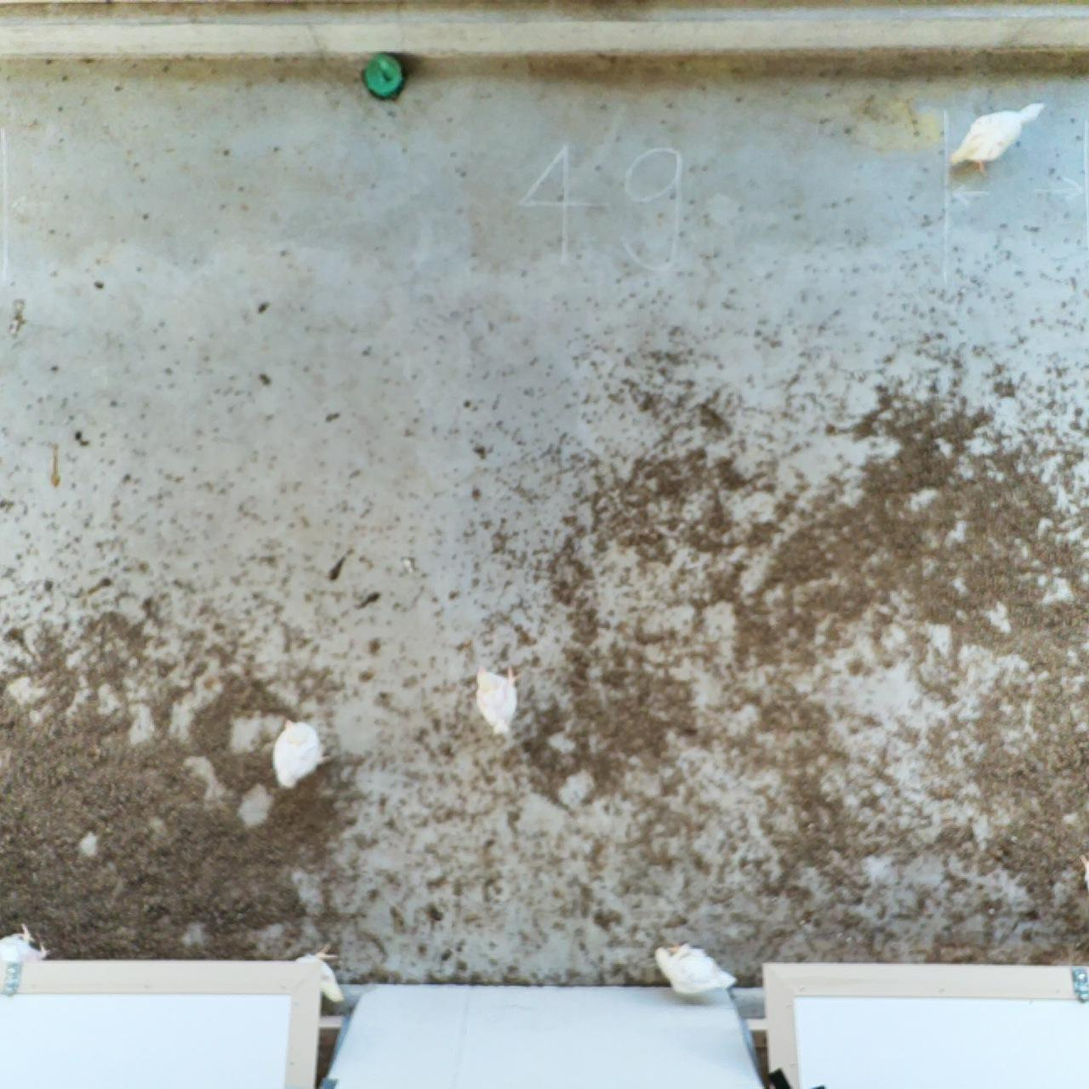chicken: (945, 99, 1051, 176), (268, 713, 335, 796), (652, 939, 738, 999), (470, 657, 522, 739), (286, 940, 348, 1007), (0, 920, 55, 971)
